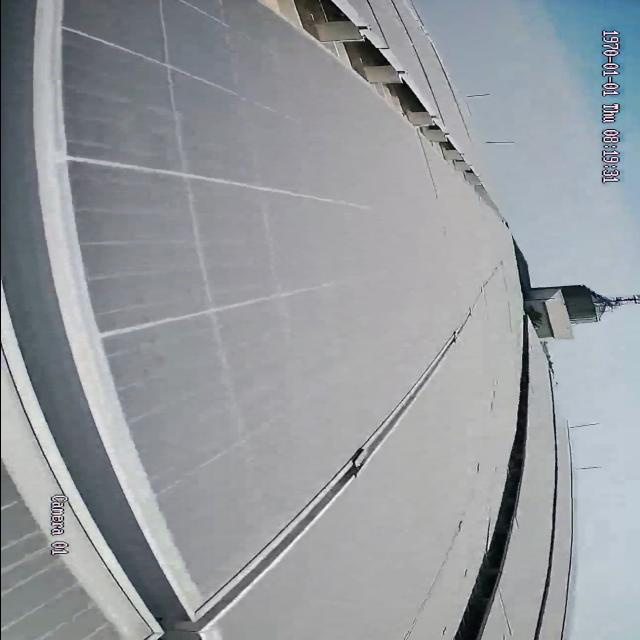interior panel: (0, 0, 469, 635)
outher panel: (256, 0, 476, 184), (446, 339, 533, 640)
